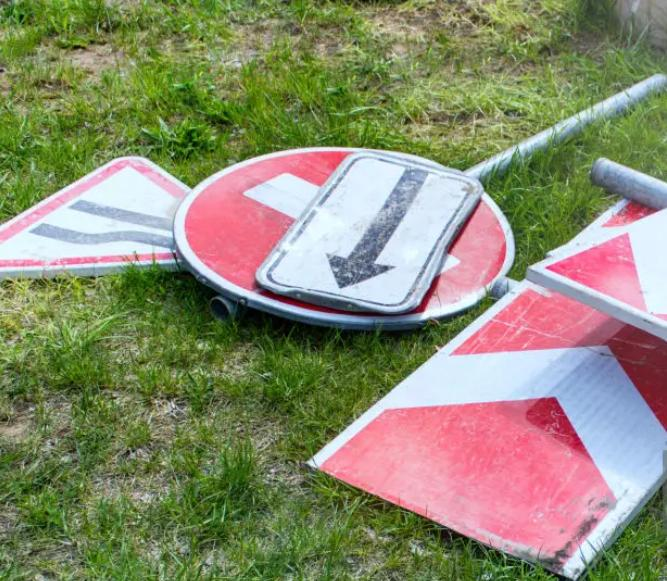obstructed_road_sign: (302, 276, 667, 581), (172, 147, 515, 323), (258, 153, 479, 314), (0, 157, 190, 276)
